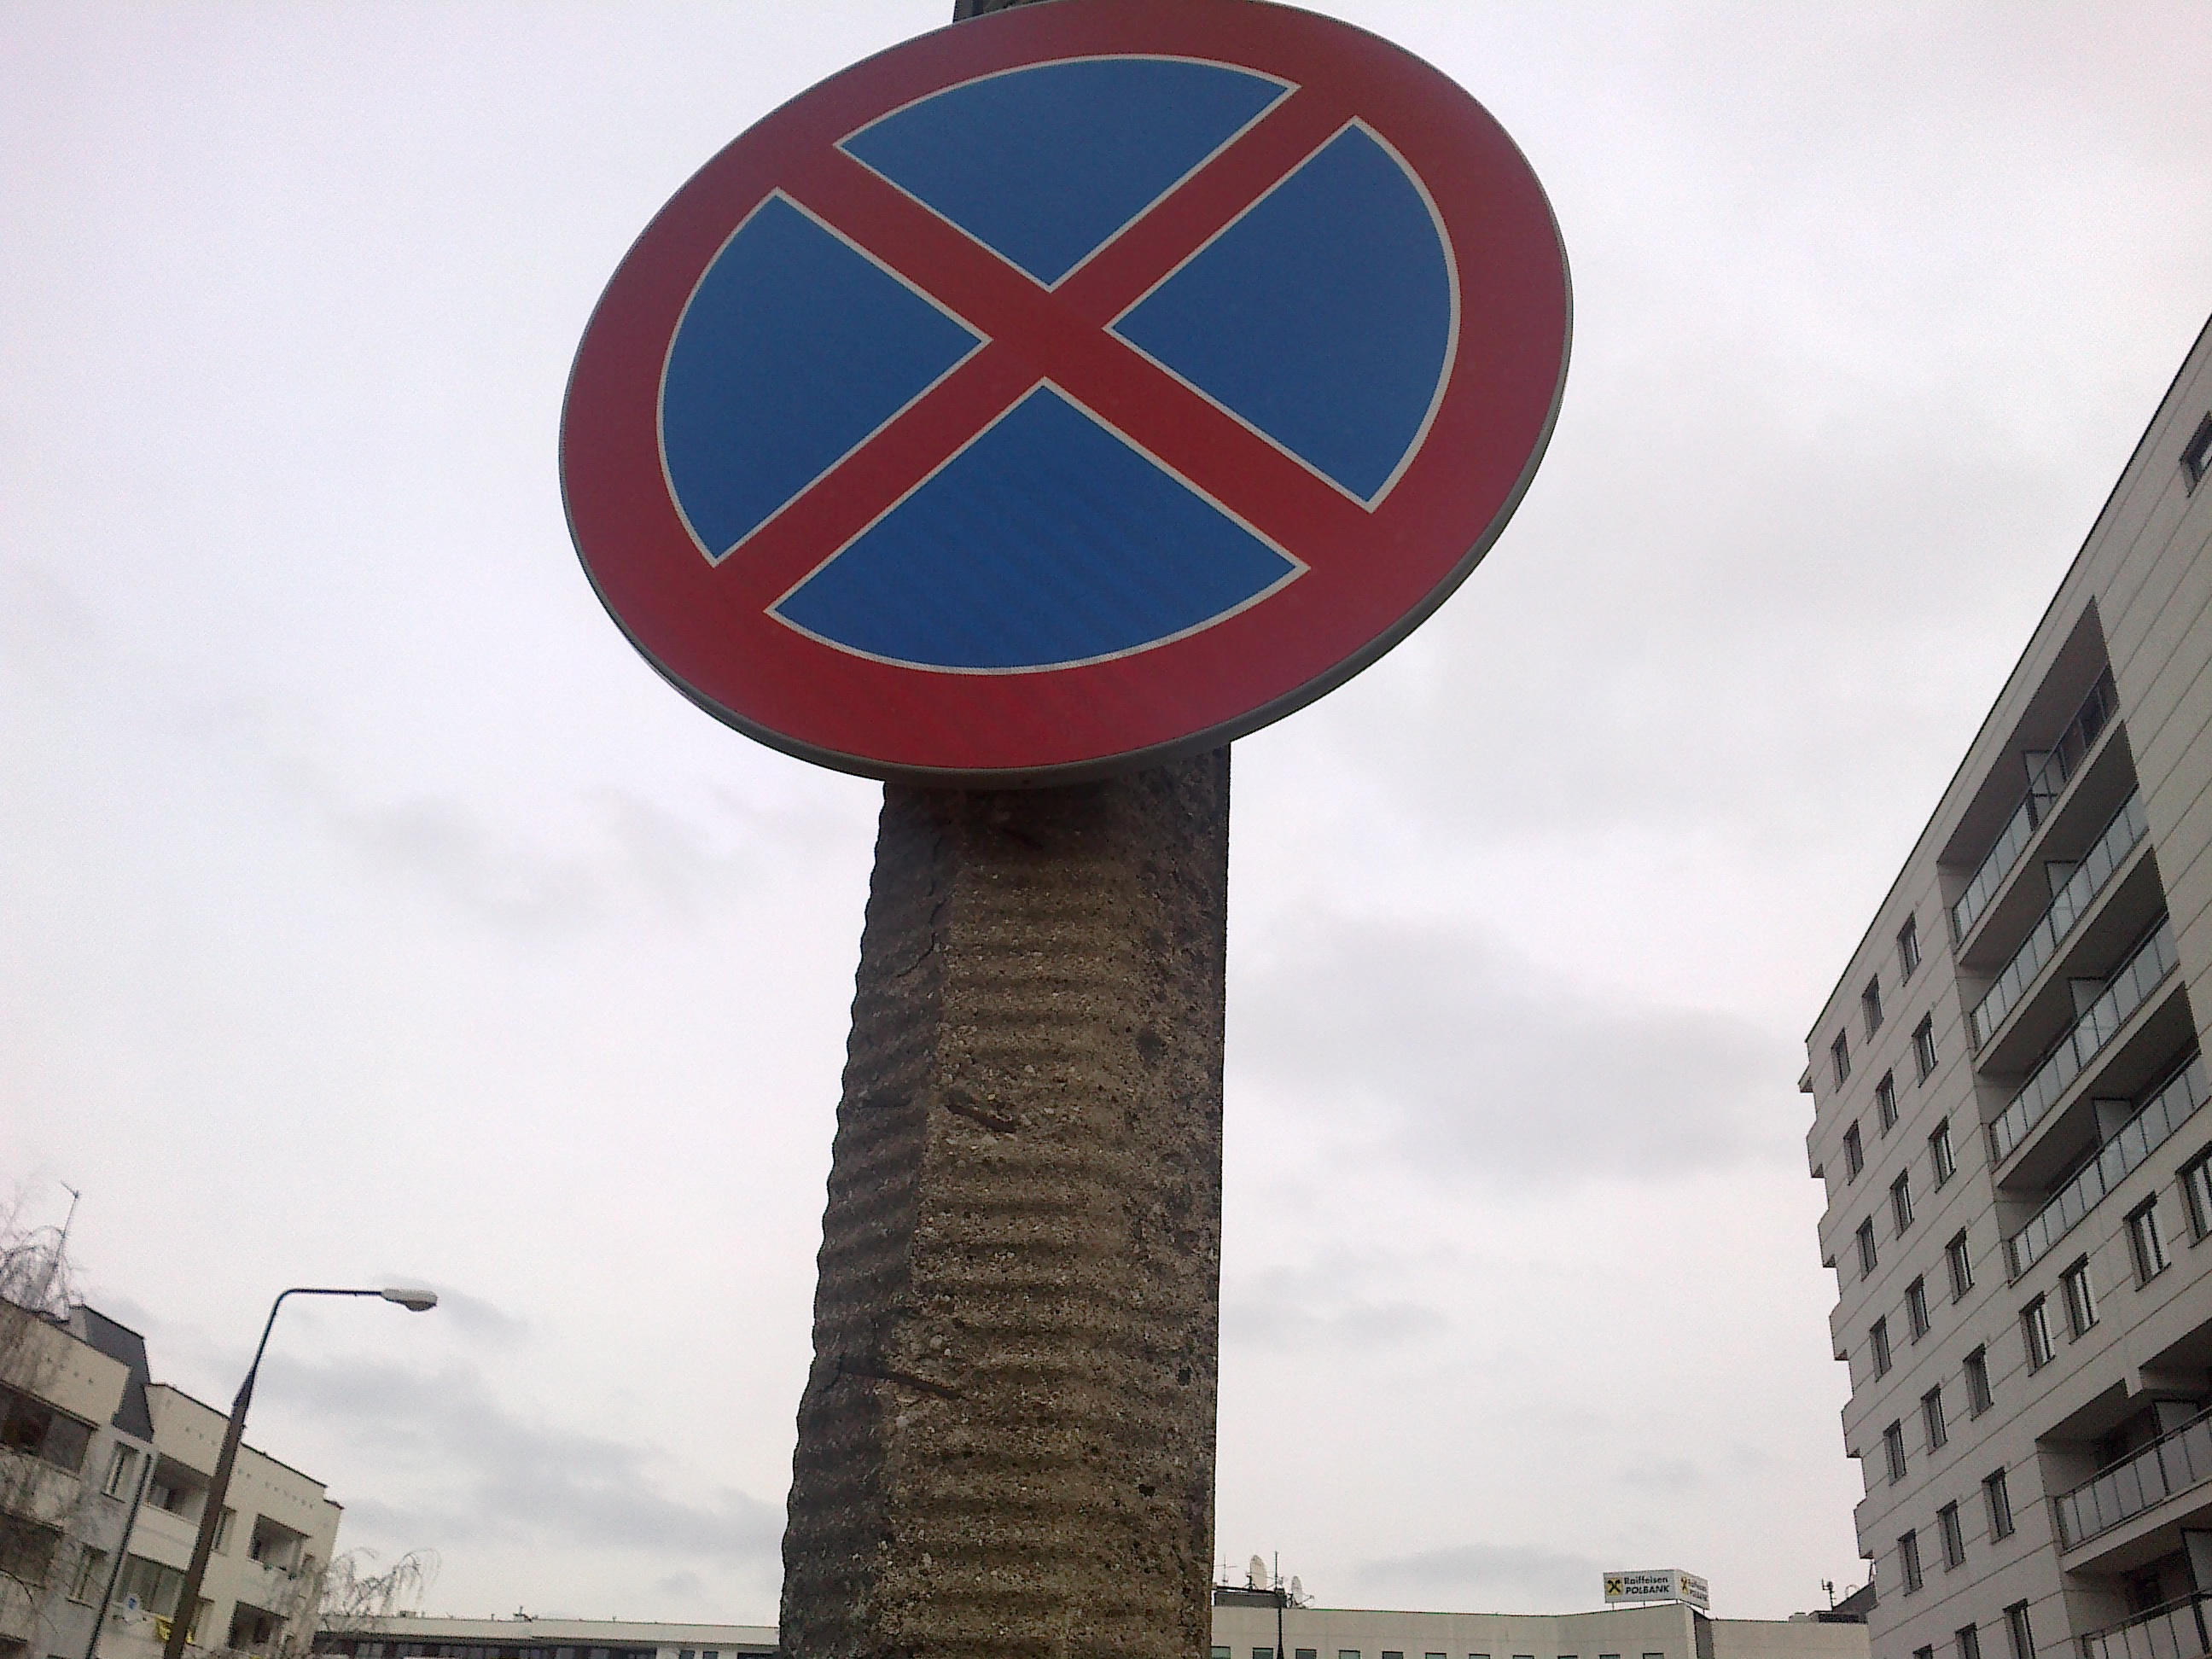no_stopping_sign: (557, 0, 1578, 784)
